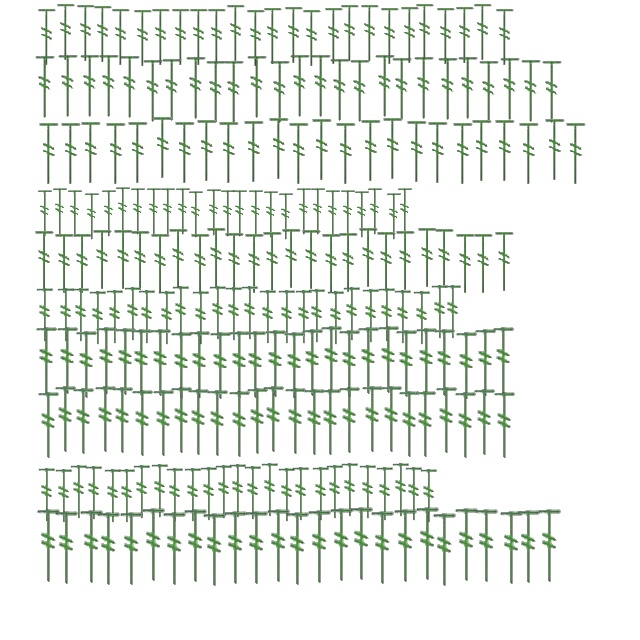fan: (35, 508, 61, 584), (53, 510, 79, 586), (78, 509, 104, 585), (95, 511, 121, 587), (118, 511, 144, 587), (140, 507, 166, 583), (161, 511, 187, 587), (182, 508, 208, 584), (201, 512, 227, 588), (222, 510, 248, 586), (243, 510, 269, 586), (265, 508, 291, 584), (284, 511, 310, 587), (306, 509, 332, 585), (328, 507, 354, 583), (348, 506, 374, 582), (369, 510, 395, 586), (392, 508, 418, 584), (414, 506, 440, 582), (431, 512, 457, 588), (453, 507, 479, 583), (473, 508, 499, 584), (498, 510, 524, 586), (515, 509, 541, 585), (536, 508, 562, 584), (34, 326, 58, 396), (55, 326, 79, 396), (74, 330, 98, 400), (94, 326, 118, 396), (113, 327, 137, 397), (129, 328, 153, 398), (148, 328, 172, 398), (169, 331, 193, 401), (187, 330, 211, 400), (208, 331, 232, 401), (227, 330, 251, 400), (243, 330, 267, 400), (263, 329, 287, 399), (282, 331, 306, 401), (300, 328, 324, 398), (319, 325, 343, 395), (337, 329, 361, 399), (356, 326, 380, 396), (376, 325, 400, 395), (394, 329, 418, 399), (414, 327, 438, 397), (432, 328, 456, 398), (454, 331, 478, 401), (473, 328, 497, 398), (491, 326, 515, 396), (110, 386, 134, 456), (169, 386, 193, 456), (186, 388, 210, 458), (227, 390, 251, 460), (302, 388, 326, 458), (318, 388, 342, 458), (337, 386, 361, 456), (397, 390, 421, 460), (413, 390, 437, 460), (434, 386, 458, 456), (472, 388, 496, 458), (33, 53, 57, 121), (56, 52, 80, 120), (78, 52, 102, 120), (97, 52, 121, 120), (118, 53, 142, 121), (141, 57, 165, 125), (160, 56, 184, 124), (184, 54, 208, 122), (204, 58, 228, 126), (222, 58, 246, 126), (245, 53, 269, 121), (268, 58, 292, 126), (288, 52, 312, 120), (309, 52, 333, 120), (328, 56, 352, 124), (348, 57, 372, 125), (373, 52, 397, 120), (390, 55, 414, 123), (412, 54, 436, 122), (436, 55, 460, 123), (456, 54, 480, 122), (477, 58, 501, 126), (498, 55, 522, 123), (519, 57, 543, 125), (540, 58, 564, 126), (36, 392, 60, 460), (53, 386, 77, 454), (71, 388, 95, 456), (93, 386, 117, 454), (130, 390, 154, 458), (151, 390, 175, 458), (205, 390, 229, 458), (245, 388, 269, 456), (261, 386, 285, 454), (283, 388, 307, 456), (360, 386, 384, 454), (379, 386, 403, 454), (453, 392, 477, 460), (492, 392, 516, 460), (79, 120, 103, 186), (126, 120, 150, 186), (173, 120, 197, 186), (195, 118, 219, 184), (217, 120, 241, 186), (267, 116, 291, 182), (359, 118, 383, 184), (381, 116, 405, 182), (426, 120, 450, 186), (470, 118, 494, 184), (493, 118, 517, 184), (37, 122, 61, 186), (59, 122, 83, 186), (104, 122, 128, 186), (151, 116, 175, 180), (242, 120, 266, 184), (287, 122, 311, 186), (310, 118, 334, 182), (334, 122, 358, 186), (405, 120, 429, 184), (451, 122, 475, 186), (517, 122, 541, 186), (543, 118, 567, 182), (564, 122, 588, 186), (112, 228, 136, 292), (300, 228, 324, 292), (320, 232, 344, 296), (416, 226, 440, 290), (454, 232, 478, 296), (472, 232, 496, 296), (280, 228, 304, 290), (394, 230, 418, 292), (54, 232, 76, 296), (72, 232, 94, 296), (92, 228, 114, 292), (150, 232, 172, 296), (190, 232, 212, 296), (206, 226, 228, 290), (244, 232, 266, 296), (262, 230, 284, 294), (358, 226, 380, 290), (376, 230, 398, 294), (494, 230, 516, 294), (34, 230, 56, 292), (130, 230, 152, 292), (168, 228, 190, 290), (224, 232, 246, 294), (338, 232, 360, 294), (434, 228, 456, 290), (36, 7, 58, 67), (55, 2, 77, 62), (75, 3, 97, 63), (92, 4, 114, 64), (110, 7, 132, 67), (132, 8, 154, 68), (150, 7, 172, 67), (170, 7, 192, 67), (188, 7, 210, 67), (206, 7, 228, 67), (225, 3, 247, 63), (245, 8, 267, 68), (262, 6, 284, 66), (283, 5, 305, 65), (301, 8, 323, 68), (323, 6, 345, 66), (339, 3, 361, 63), (359, 3, 381, 63), (379, 6, 401, 66), (399, 5, 421, 65), (414, 2, 436, 62), (435, 6, 457, 66), (454, 5, 476, 65), (472, 2, 494, 62), (494, 7, 516, 67), (56, 287, 76, 343), (88, 290, 108, 346), (208, 285, 228, 341), (224, 286, 244, 342), (240, 285, 260, 341), (258, 289, 278, 345), (294, 289, 314, 345), (326, 290, 346, 346), (342, 286, 362, 342), (412, 290, 432, 346), (430, 284, 450, 340), (54, 468, 74, 524), (84, 465, 104, 521), (132, 464, 152, 520), (150, 463, 170, 519), (214, 464, 234, 520), (228, 463, 248, 519), (260, 462, 280, 518), (340, 462, 360, 518), (358, 464, 378, 520), (404, 466, 424, 522), (36, 287, 54, 343), (72, 287, 90, 343), (106, 289, 124, 345), (124, 286, 142, 342), (138, 289, 156, 345), (158, 290, 176, 346), (172, 285, 190, 341), (192, 290, 210, 346), (278, 289, 296, 345), (308, 288, 326, 344), (362, 288, 380, 344), (378, 287, 396, 343), (394, 289, 412, 345), (444, 284, 462, 340), (38, 467, 56, 523), (70, 464, 88, 520), (104, 468, 122, 524), (118, 468, 136, 524), (166, 467, 184, 523), (184, 467, 202, 523), (200, 466, 218, 522), (244, 465, 262, 521), (278, 467, 296, 523), (292, 466, 310, 522), (312, 466, 330, 522), (326, 464, 344, 520), (376, 466, 394, 522), (392, 462, 410, 518), (420, 468, 438, 524), (36, 188, 54, 240), (51, 186, 69, 238), (66, 188, 84, 240), (100, 188, 118, 240), (129, 186, 147, 238), (145, 186, 163, 238), (159, 186, 177, 238), (174, 186, 192, 238), (219, 188, 237, 240), (231, 188, 249, 240), (247, 188, 265, 240), (295, 186, 313, 238), (309, 186, 327, 238), (324, 188, 342, 240), (339, 188, 357, 240), (366, 186, 384, 238), (396, 186, 414, 238), (83, 192, 101, 242), (114, 186, 132, 236), (187, 190, 205, 240), (205, 188, 223, 238), (262, 190, 280, 240), (277, 192, 295, 242), (353, 190, 371, 240), (385, 192, 403, 242)
